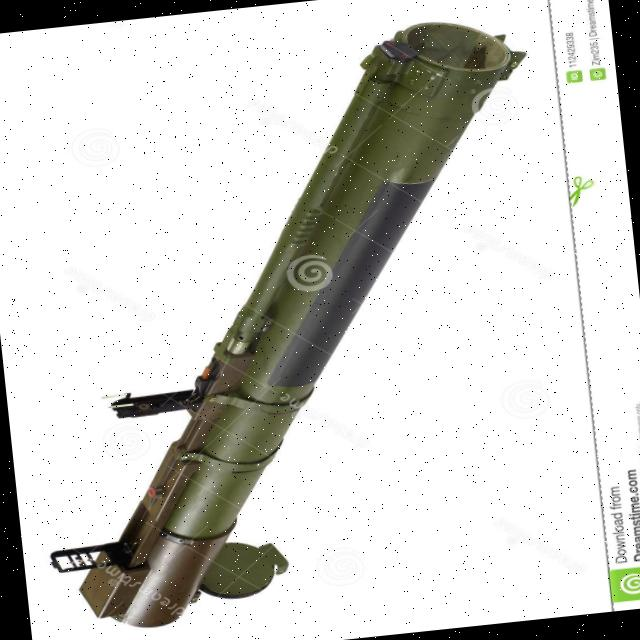Bazooka: (5, 23, 568, 629)
